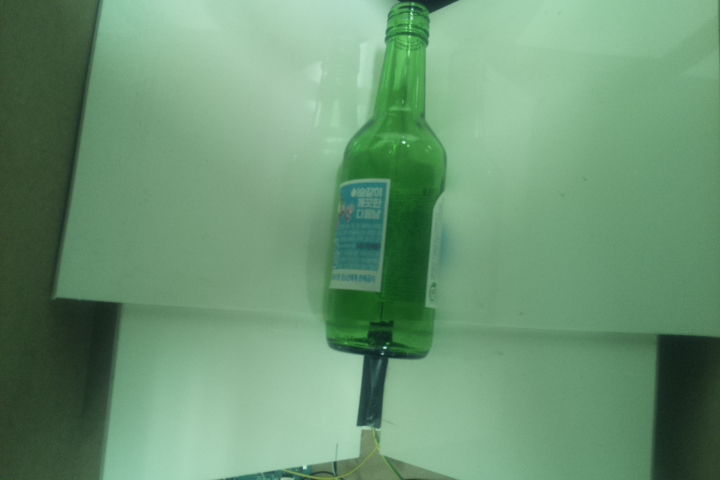soju: (323, 1, 446, 359)
